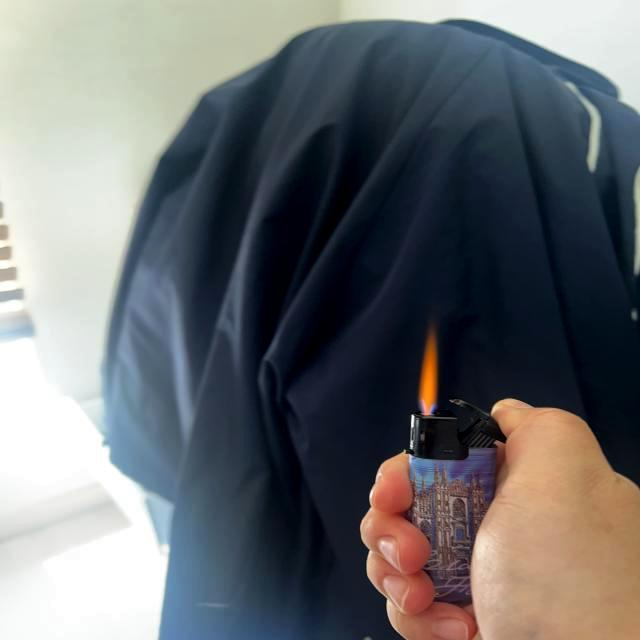fire: (418, 324, 442, 412)
